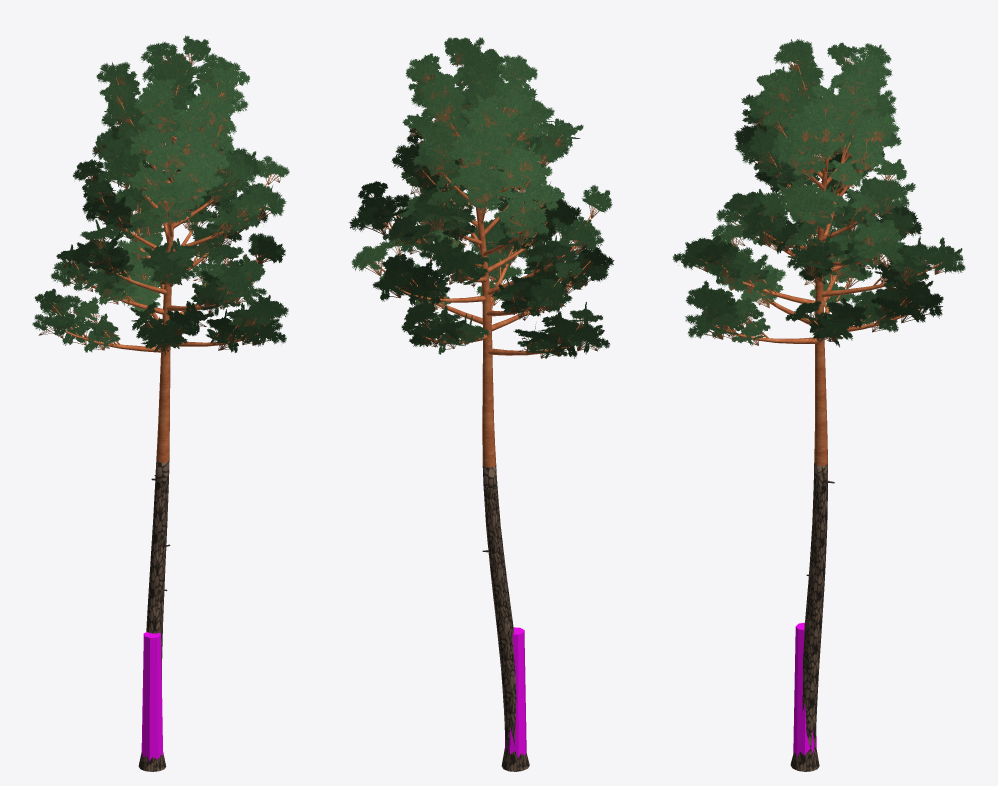
Rendered from EN_Tree_Pine_B.fbx.
The picture shows the model from 3 angles, left to right: view 1: azimuth 30°, elevation 25°; view 2: azimuth 150°, elevation 25°; view 3: azimuth 270°, elevation 25°; orthographic projection. The views are drawn at different scales.
Visible parts, largest first — view 1: EN_Tree_Pine_B_LOD0, COL_Trunk; view 2: EN_Tree_Pine_B_LOD0, COL_Trunk; view 3: EN_Tree_Pine_B_LOD0, COL_Trunk.
Part boxes in pixels (left/top/right/bottom): EN_Tree_Pine_B_LOD0: left=32, top=35, right=289, bottom=771; COL_Trunk: left=141, top=632, right=163, bottom=761; EN_Tree_Pine_B_LOD0: left=348, top=37, right=614, bottom=771; COL_Trunk: left=504, top=627, right=526, bottom=758; EN_Tree_Pine_B_LOD0: left=672, top=39, right=965, bottom=771; COL_Trunk: left=793, top=622, right=816, bottom=757.
Size of what is drawn, in the model's own units: 8.82 by 21.69 by 8.49.
